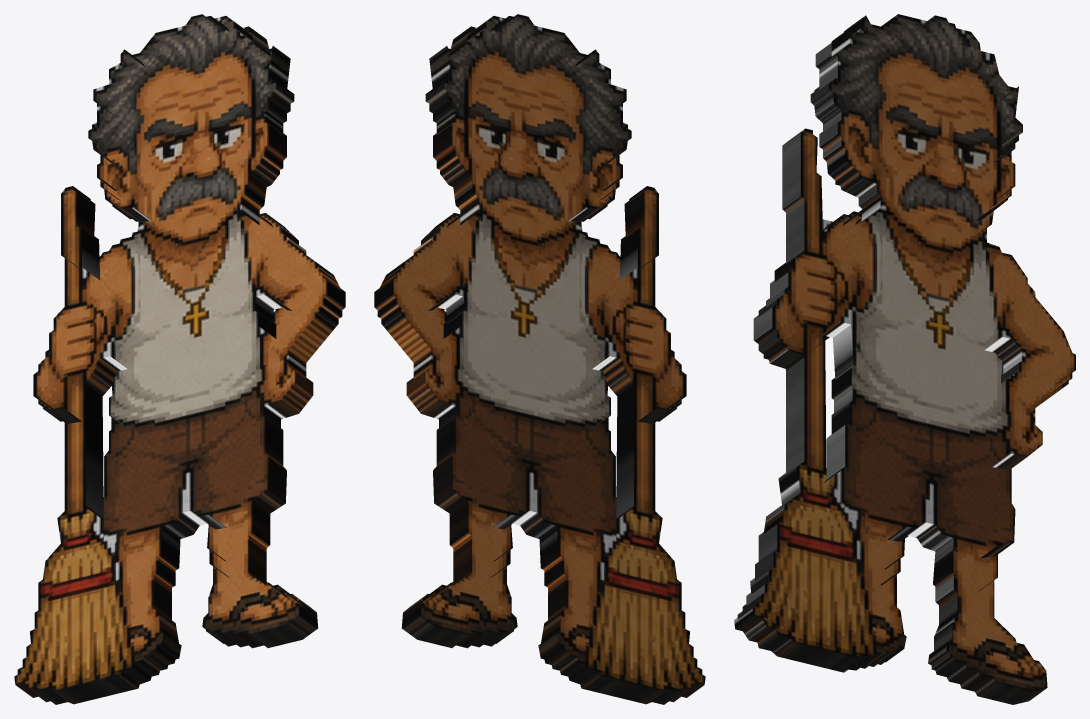
File: old_man_idle.glb
3 views of the same model, side by side, from view 1: azimuth 30°, elevation 25°; view 2: azimuth 150°, elevation 25°; view 3: azimuth 330°, elevation 25° (orthographic). The views are drawn at different scales.
Parts seen in each view (by area): view 1: world; view 2: world; view 3: world.
Part boxes in pixels (bbox=[...]): world: bbox=[14, 14, 345, 704]; world: bbox=[374, 14, 705, 704]; world: bbox=[734, 14, 1075, 704].
Size of the model in its own units: 2.62 by 5.12 by 0.2565.
Materials: 1 (1 with a texture image).
